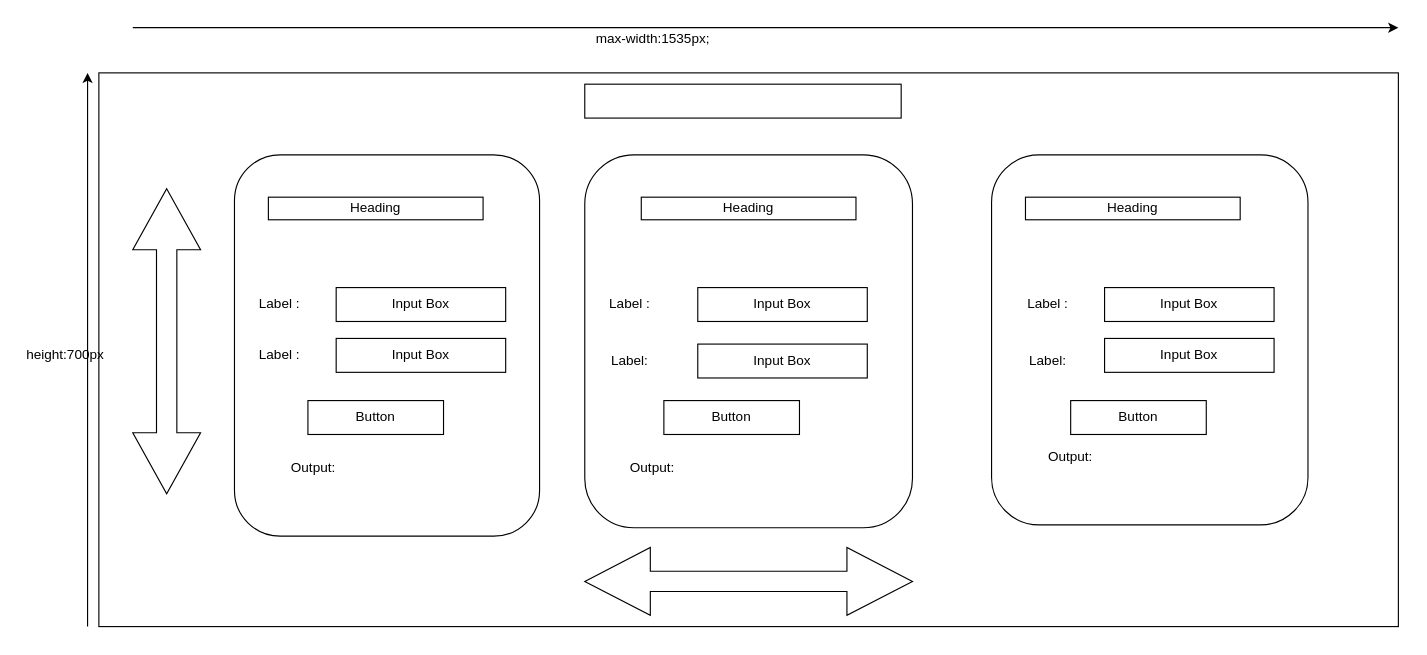
The diagram is 1427 pixels wide and 655 high, and some of its shapes have lost their labels. Here are the shapes that lost their labels. From the top down, the box of each, then its label:
(584, 83, 901, 118): Title
(132, 188, 201, 494): height:500px
(584, 546, 912, 615): width:425px;
